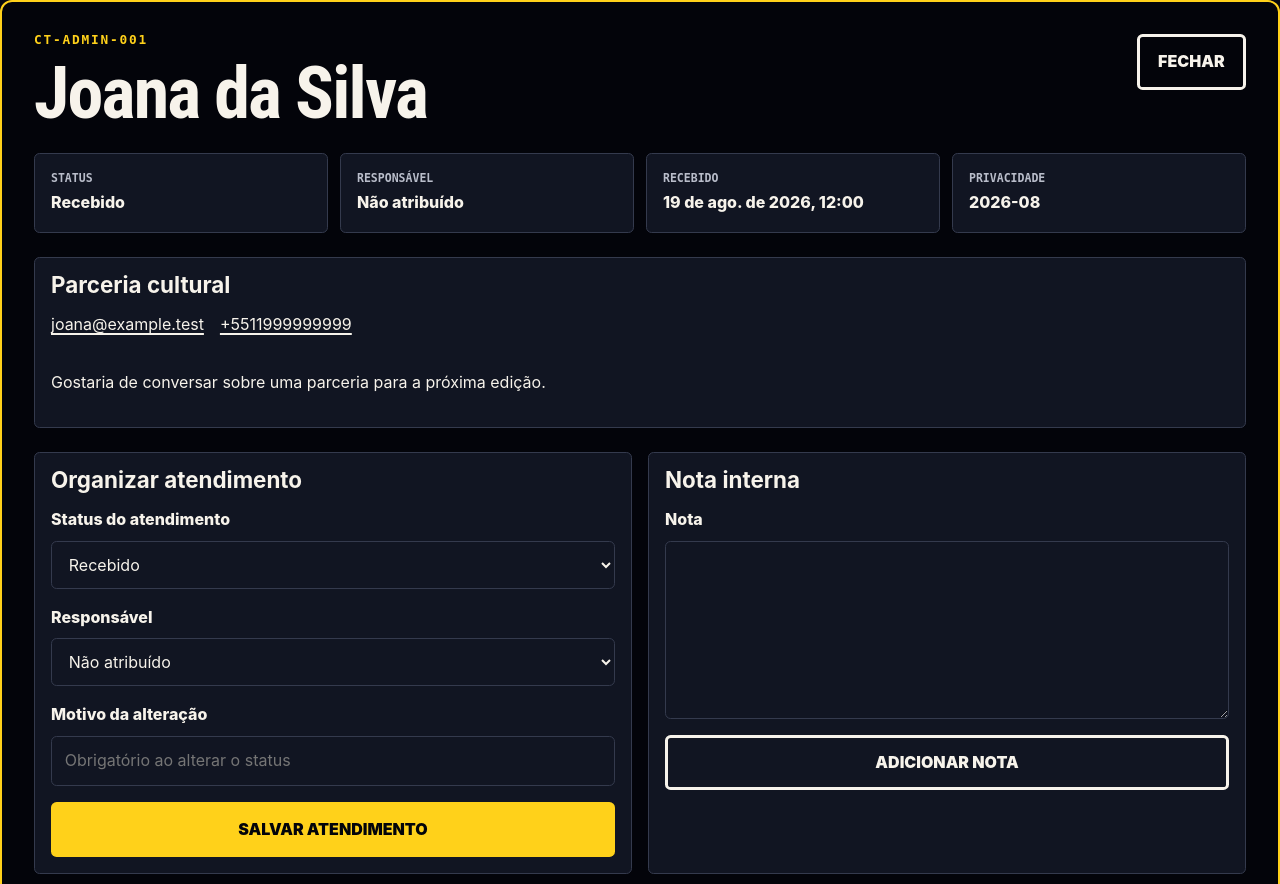
contatos administrativos › atualiza status e responsável com CSRF
This screenshot has width=1280, height=884.
Expected: the heading "Joana da Silva" is shown, x1=34 y1=59 x2=427 y2=129
Step 1. Select "Em atendimento" in the dropdown labelled "Status do atendimento" → (333, 565), box x1=51 y1=541 x2=615 y2=589
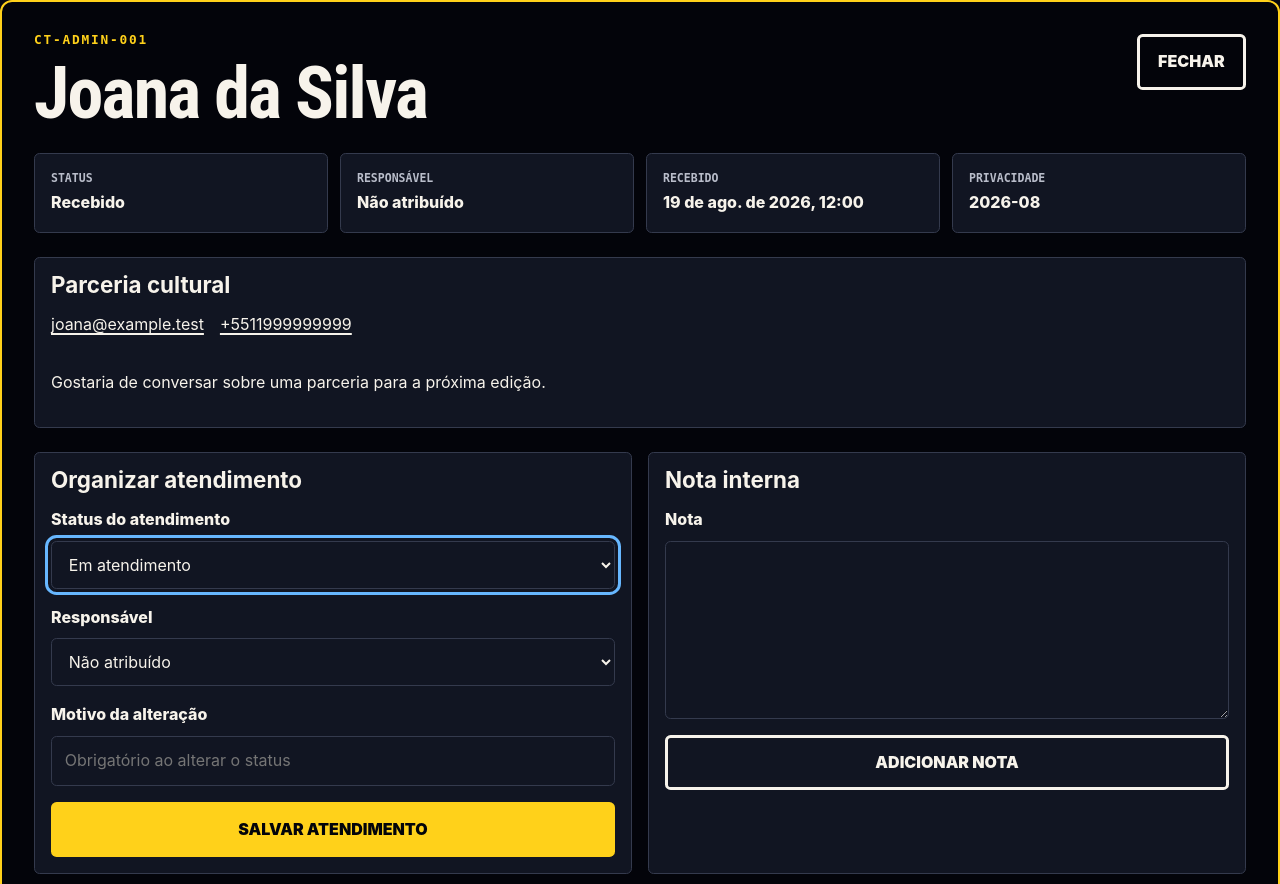
Step 2. Select "Atendimento" in the dropdown labelled "Responsável" → (333, 662), box x1=51 y1=638 x2=615 y2=686
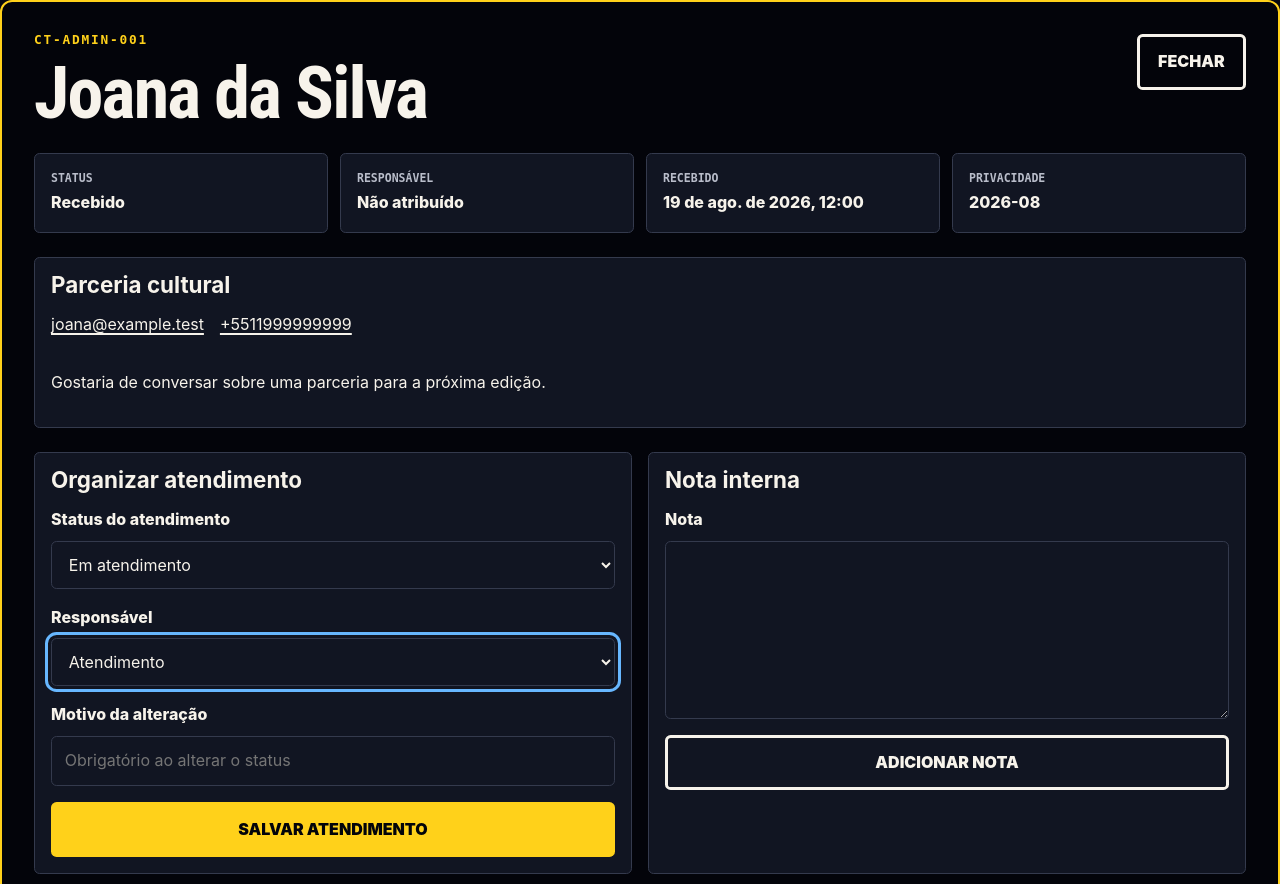
Step 3. Type "Atendimento iniciado" into the field labelled "Motivo da alteração" → (333, 761), box x1=51 y1=736 x2=615 y2=786
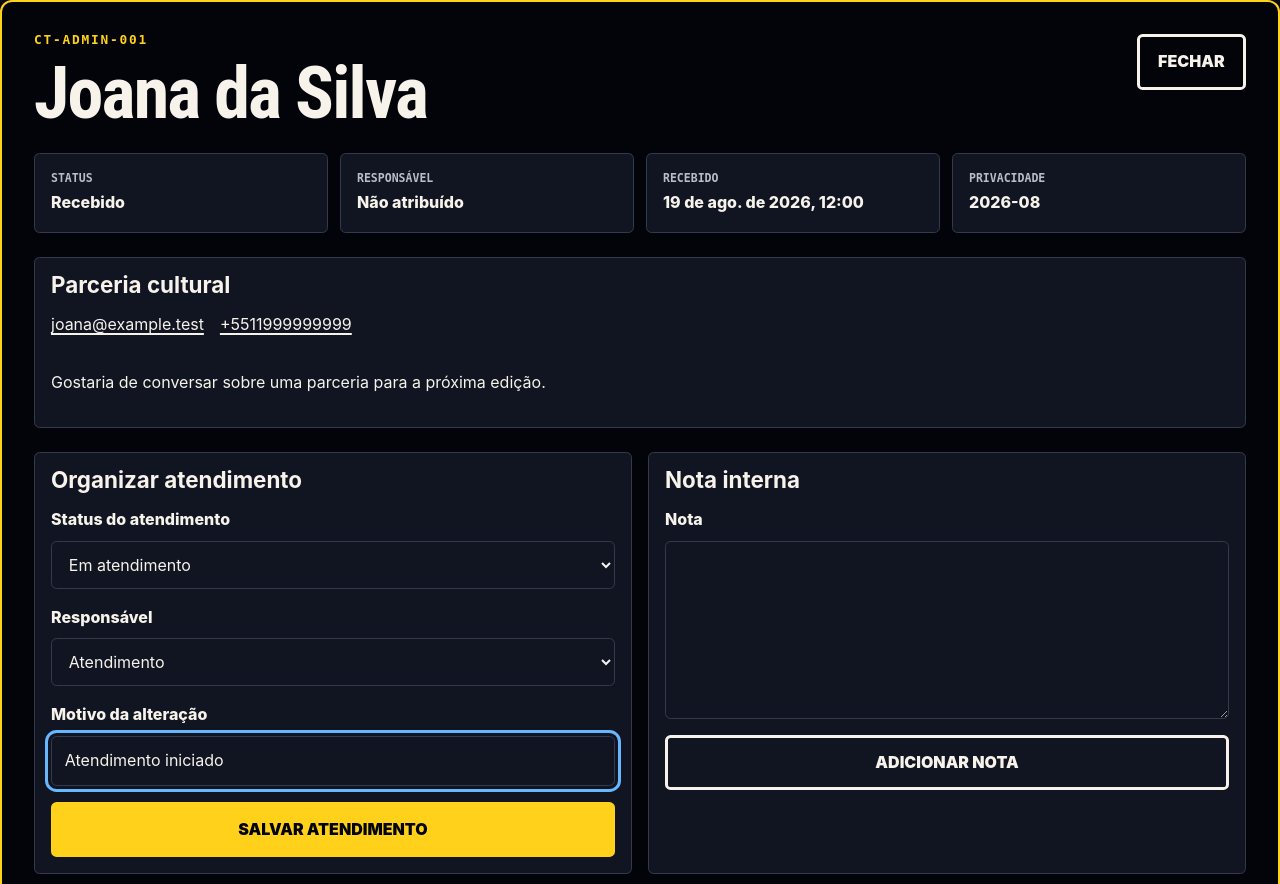
Step 4. Click the button "SALVAR ATENDIMENTO" → (333, 830), box x1=51 y1=802 x2=615 y2=858
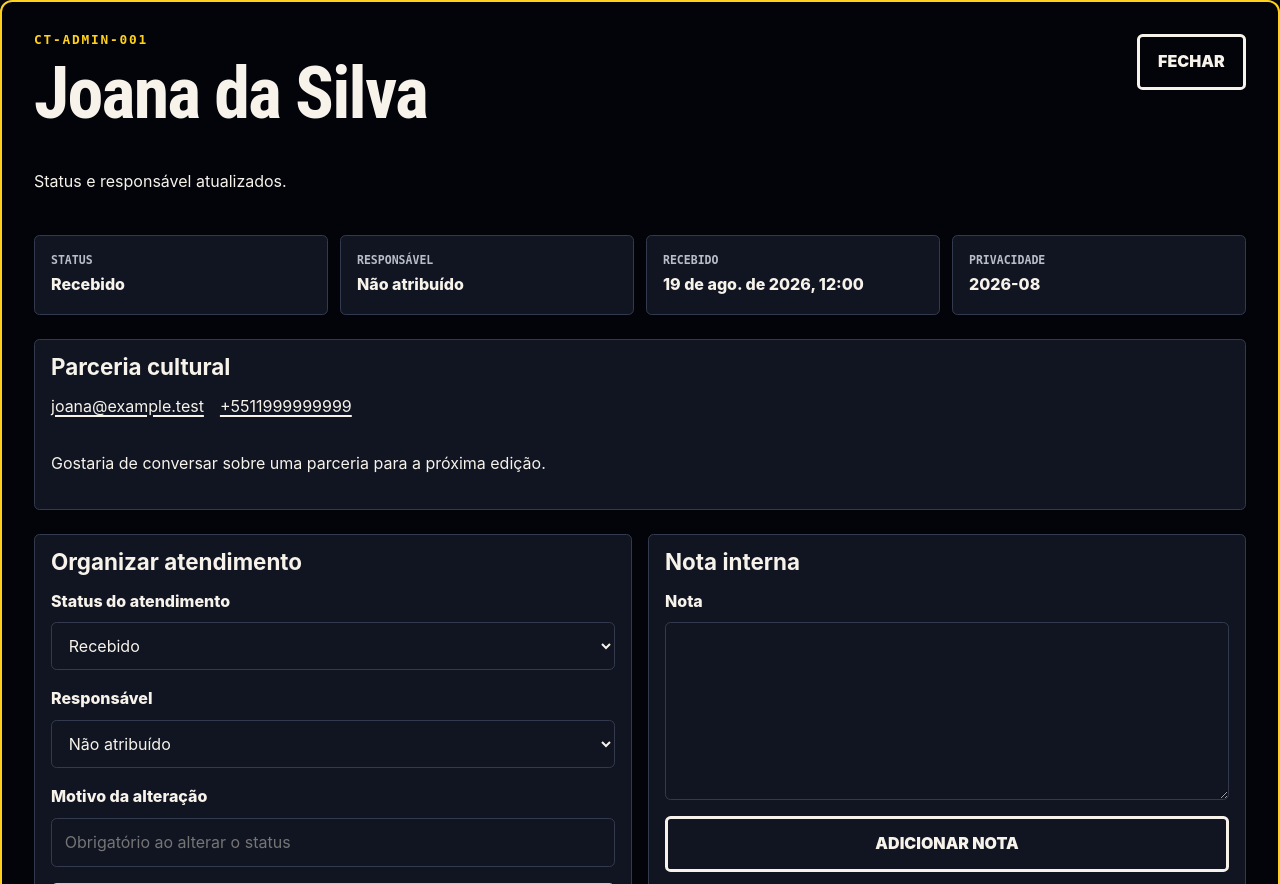
Result: the text "Status e responsável atualizados." is shown at x1=34 y1=171 x2=287 y2=191
